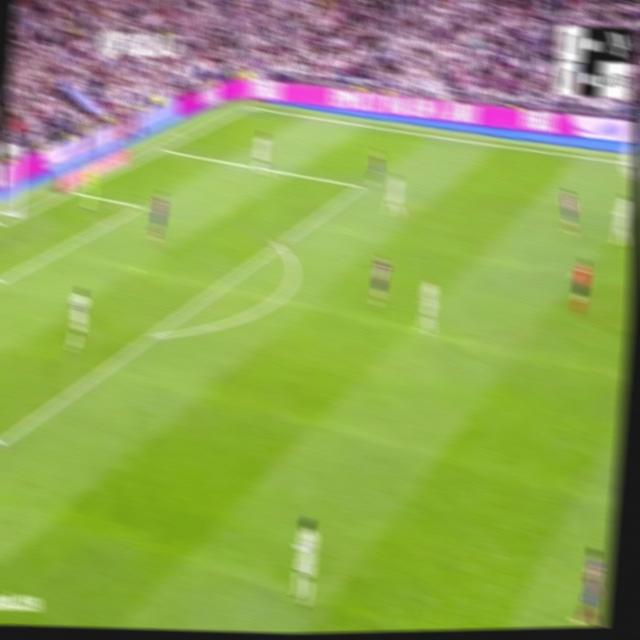bigarea_top_inner: (354, 175, 367, 194)
bigarea_top_outter: (155, 139, 170, 155)
bottom_arc_area_intersection: (146, 322, 162, 345)
corner: (242, 99, 256, 112)
smallarea_top_inner: (134, 196, 148, 216)
top_arc_area_intersection: (271, 234, 287, 254)
